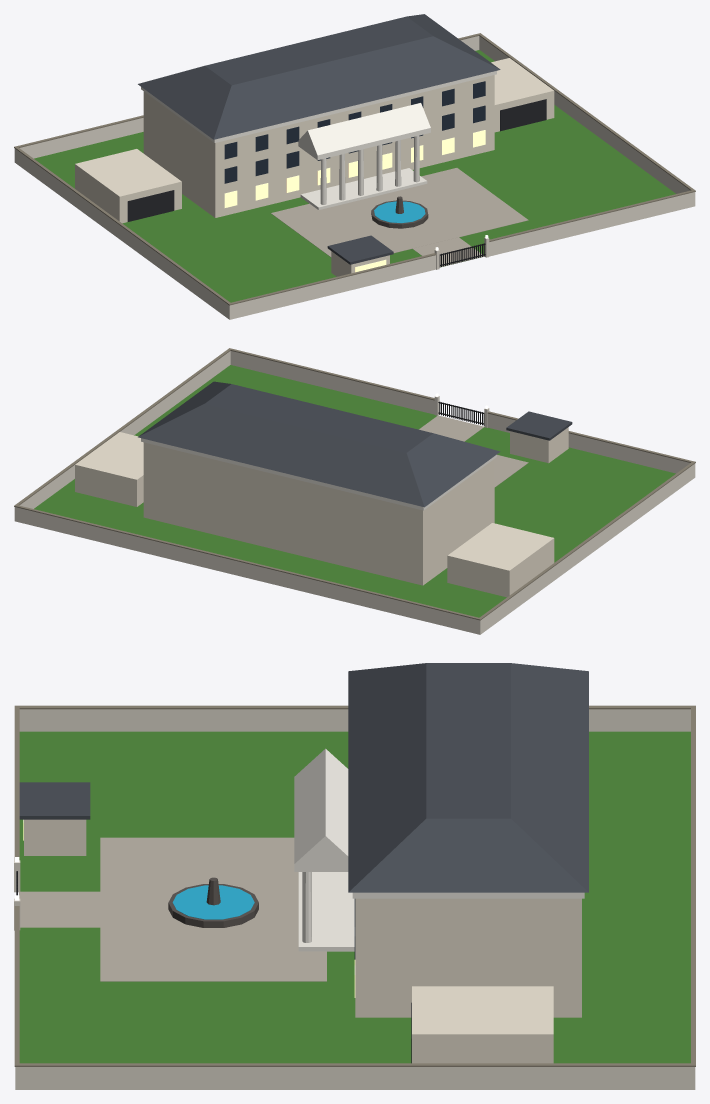
Rendered from bld_lx_mansion.glb.
The picture shows the model from 3 angles, top to bottom: view 1: azimuth 30°, elevation 25°; view 2: azimuth 150°, elevation 25°; view 3: azimuth 270°, elevation 25°; orthographic projection. The views are drawn at different scales.
Visible parts, largest first — view 1: bld_lx_mansion; view 2: bld_lx_mansion; view 3: bld_lx_mansion.
Boxes of the visible parts, x1,y1,x2,y2 form: bld_lx_mansion: (14, 14, 695, 319); bld_lx_mansion: (14, 348, 695, 634); bld_lx_mansion: (14, 663, 695, 1089).
Size of what is drawn, in the model's own units: 60.1 by 13.2 by 48.15.
